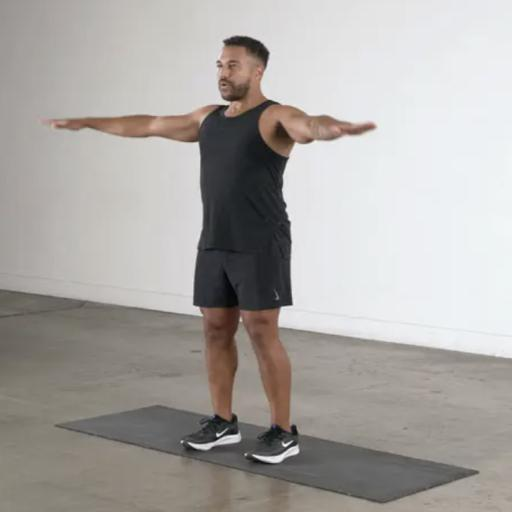Normal_Dips: (7, 11, 395, 472)
